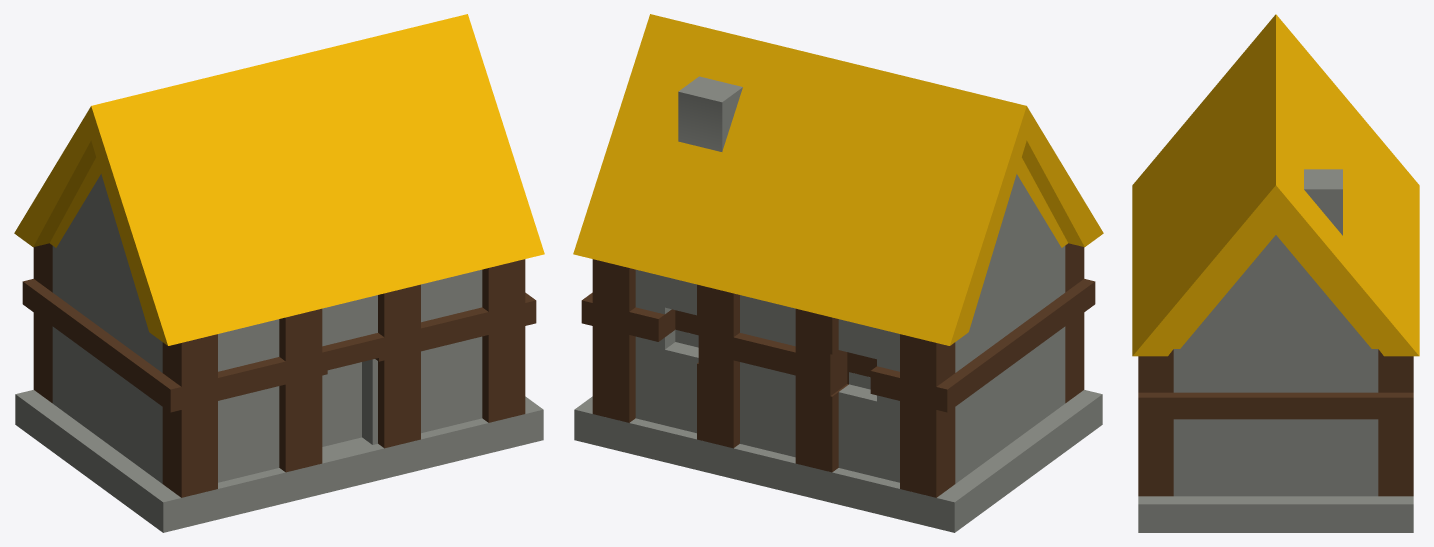
File: gehoeft_gelb.glb
3 views of the same model, side by side, from view 1: azimuth 30°, elevation 25°; view 2: azimuth 150°, elevation 25°; view 3: azimuth 270°, elevation 25° (orthographic). The views are drawn at different scales.
Parts seen in each view (by area): view 1: gehoeft_gelb; view 2: gehoeft_gelb; view 3: gehoeft_gelb.
Part boxes in pixels (x1,y1,x2,y2): gehoeft_gelb: [14, 14, 544, 532]; gehoeft_gelb: [573, 14, 1103, 532]; gehoeft_gelb: [1132, 14, 1419, 532].
Bounding box in the file's own units: 10.4 × 9.74 × 7.3.
